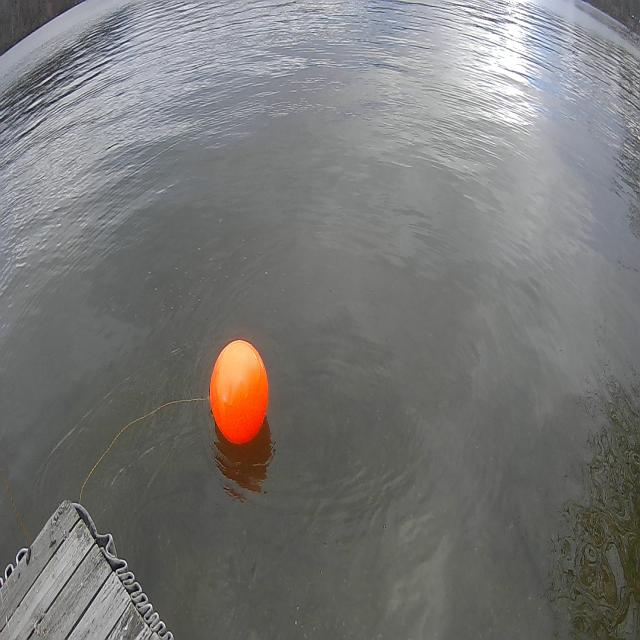Buoy: (208, 334, 271, 450)
